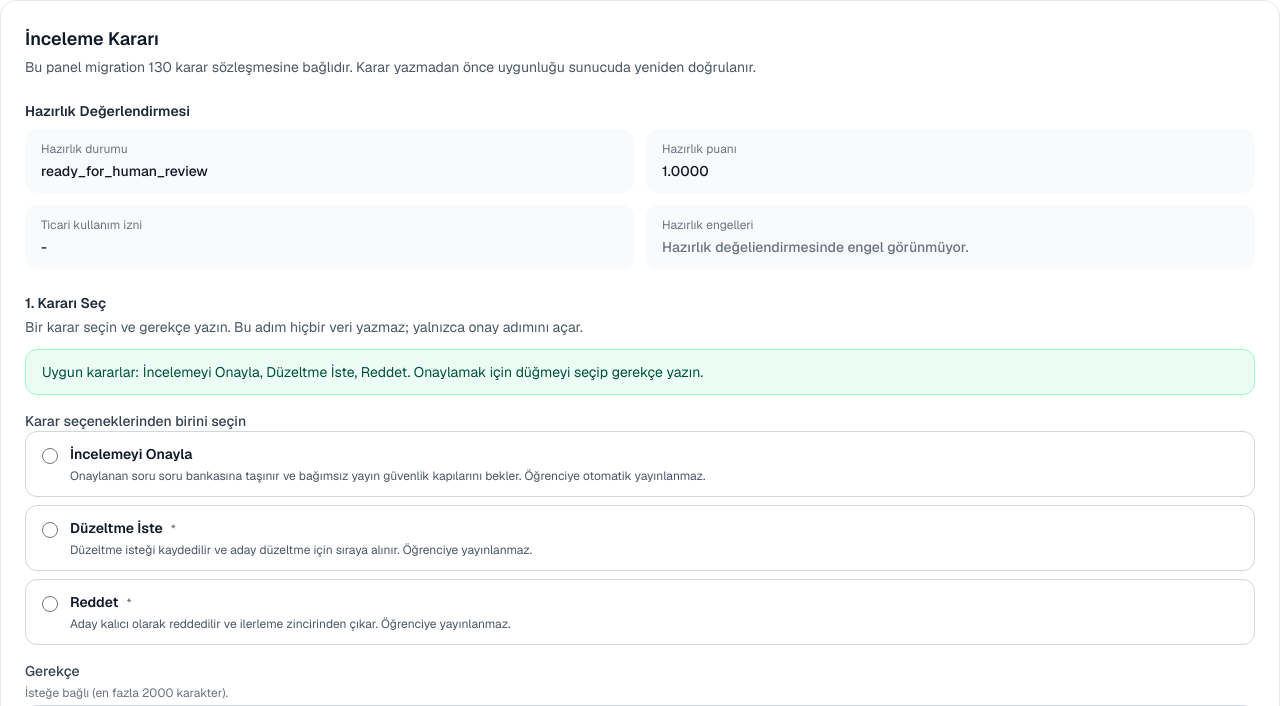
Test: kilit kapı: karar yazmadan önce onay adımı yoktur › radyo seçimi tek başına onay adımını AÇMAZ ve yazma yapmaz
Click the radio button labelled "Reddet": (50, 604) [42,596,58,612]
(page scrolled)
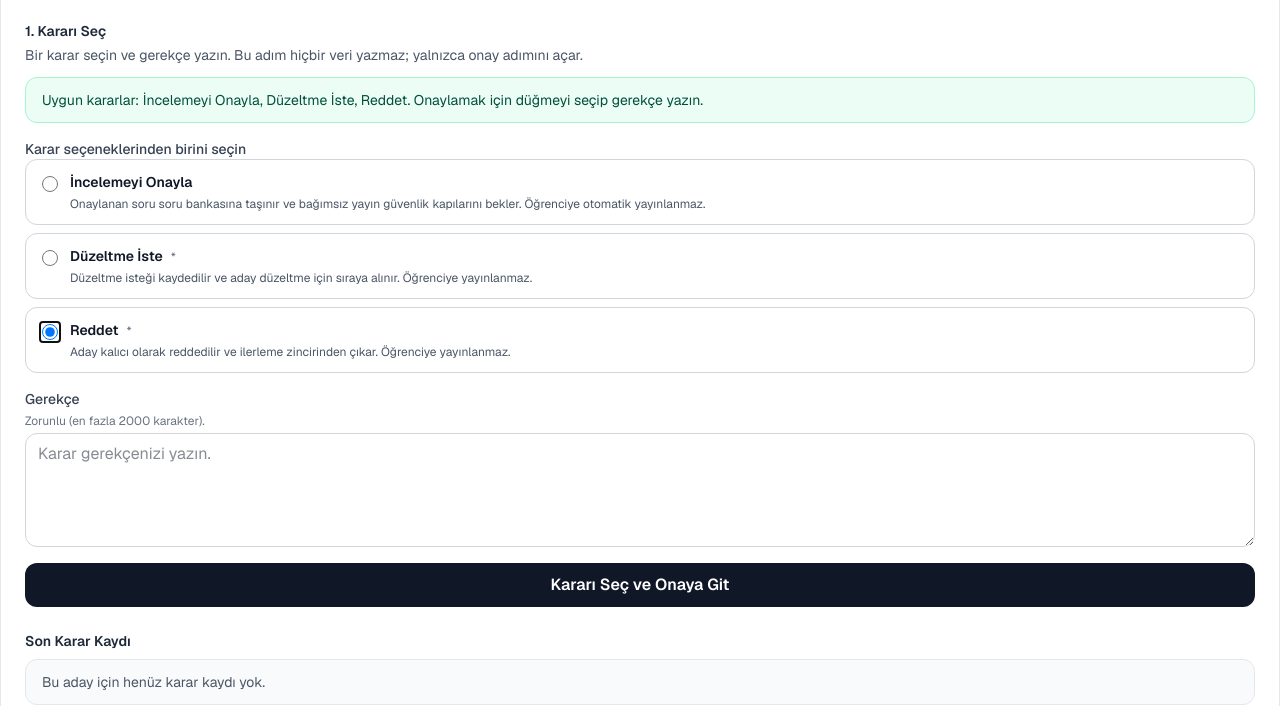
Result: the button "Kararı Seç ve Onaya Git" is enabled at [25,563,1255,607]
